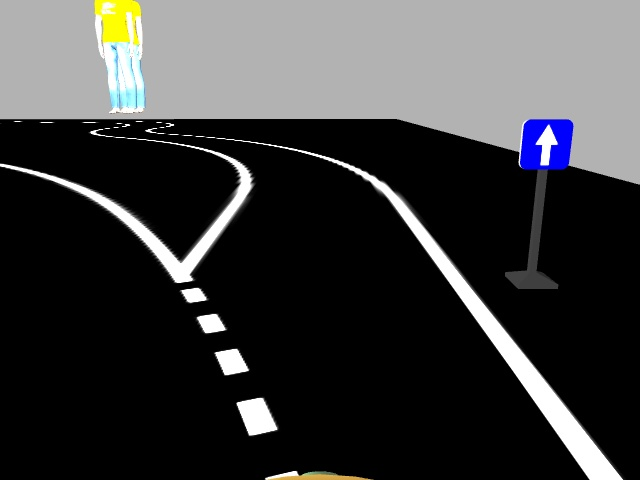OneWay: (517, 116, 572, 169)
